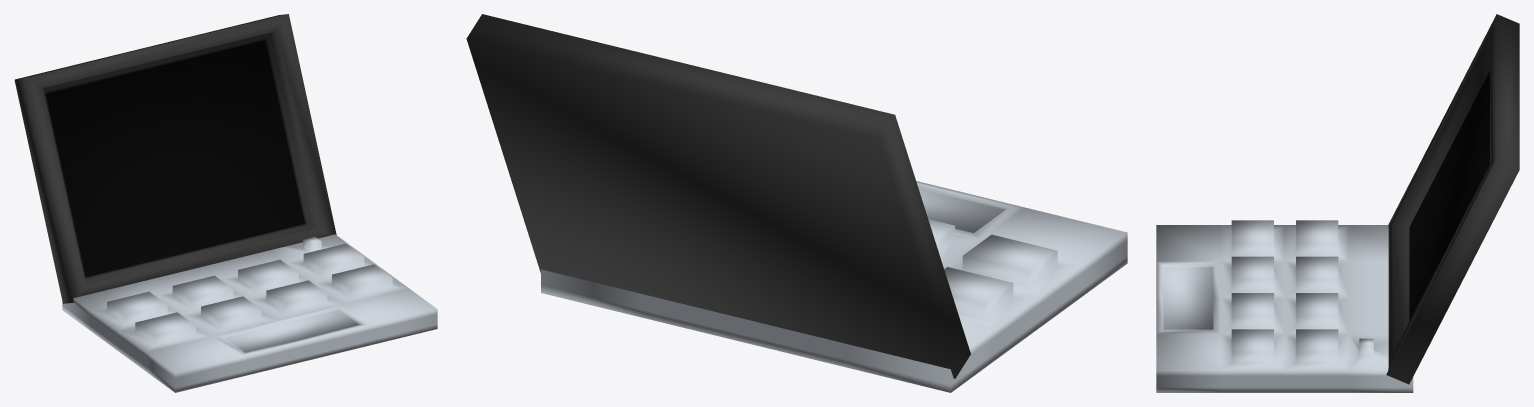
Rendered from Computador.fbx.
The picture shows the model from 3 angles, left to right: view 1: azimuth 30°, elevation 25°; view 2: azimuth 150°, elevation 25°; view 3: azimuth 270°, elevation 25°; orthographic projection. The views are drawn at different scales.
Visible parts, largest first — view 1: Computador; view 2: Computador; view 3: Computador.
Part boxes in pixels (x1,y1,x2,y2): Computador: (14,14,437,392); Computador: (466,14,1127,392); Computador: (1156,14,1519,392).
Bounding box in the file's own units: 60.5 × 44.86 × 63.35.
Materials: 1 (1 with a texture image).
